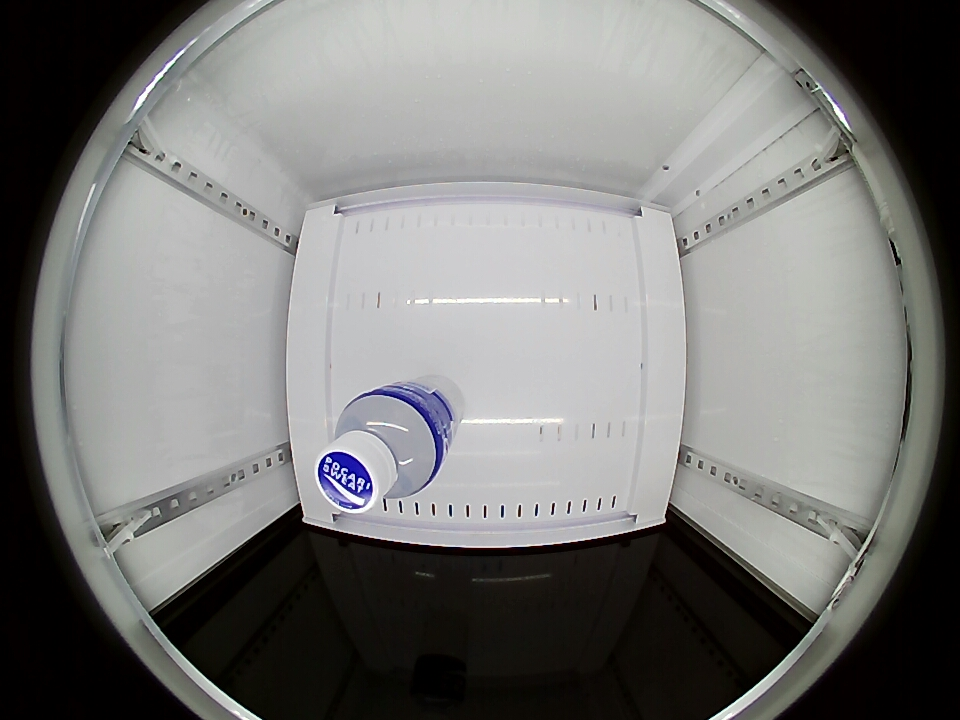baokuangli: (316, 386, 448, 513)
